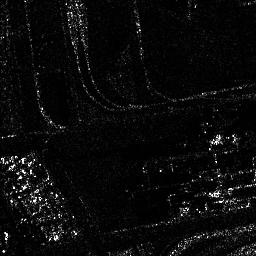ship: (209, 133, 239, 146)
